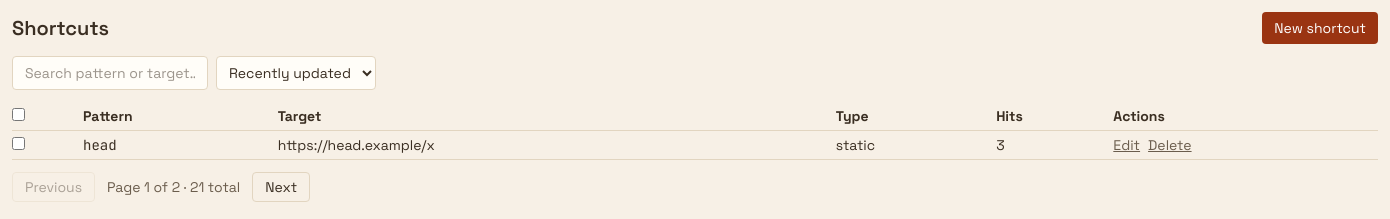
Test case: ShortcutsPage › pages through results
The width and height of the screenshot is (1390, 219).
Expected: the text "head" is shown, [83,130,278,160]
Click the button "Next" at [281, 187], box [252,172,310,202]
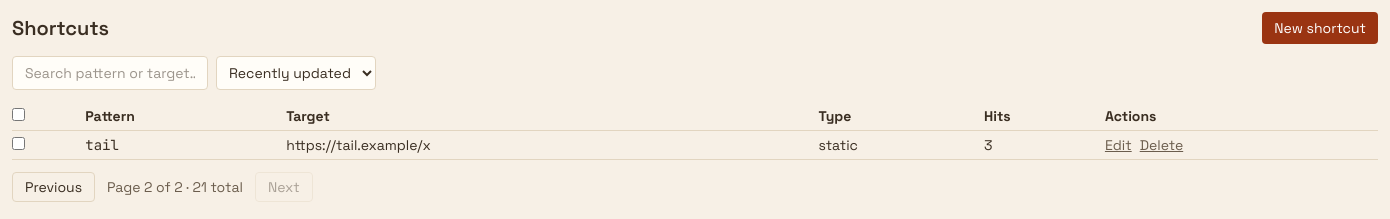
Expected: the text "tail" is shown, [85,130,286,160]
Expected: the text "Page 2 of 2 · 21 total" is shown, [107,177,243,197]
